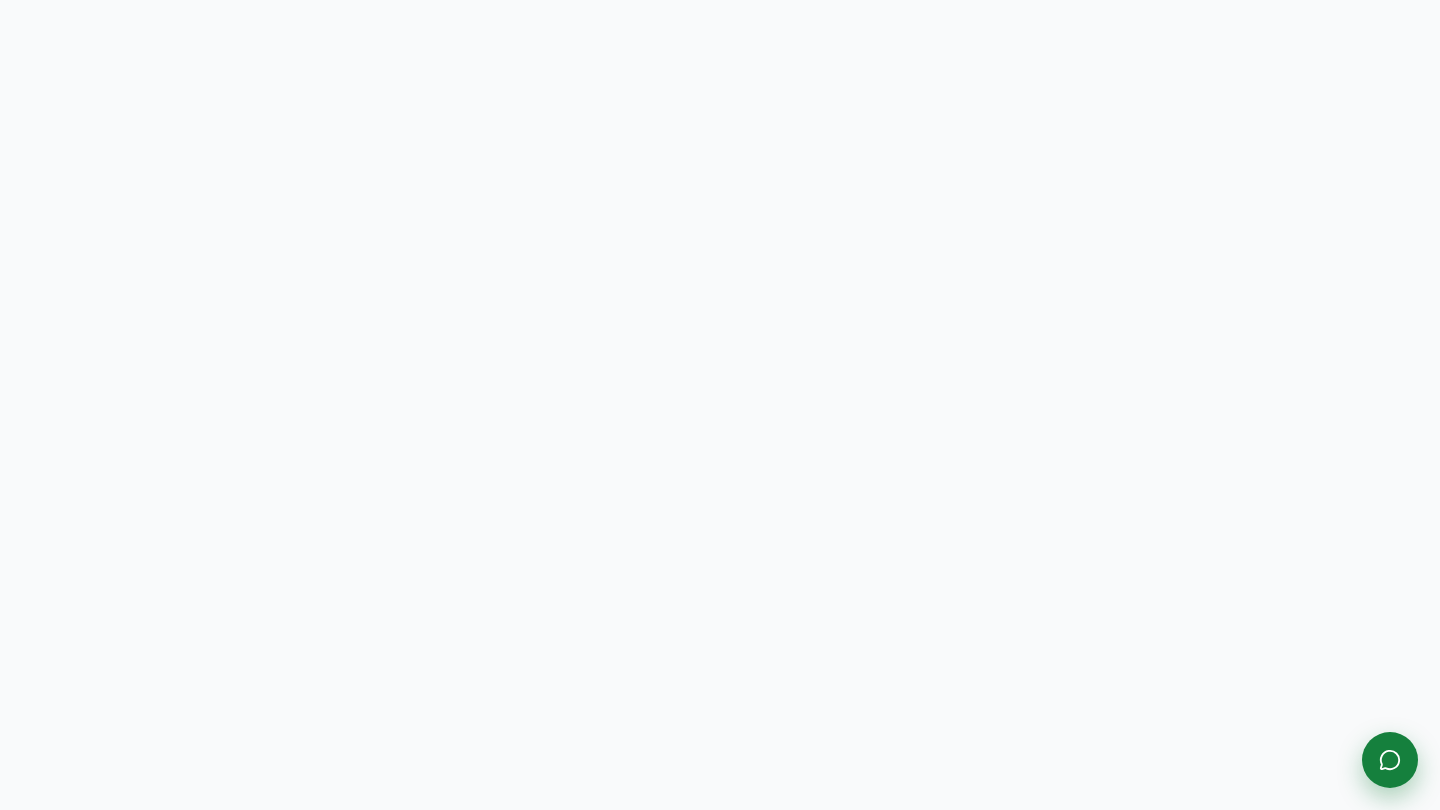
Driver chatbot › opens from the floating launcher and shows the Chatbot heading
This screenshot has width=1440, height=810.
What coordinates should you click on to do the following:
click the button named "Open Chatbot"
I would click on:
 (1390, 760)
Its box is top-left (1362, 732), bottom-right (1418, 788).
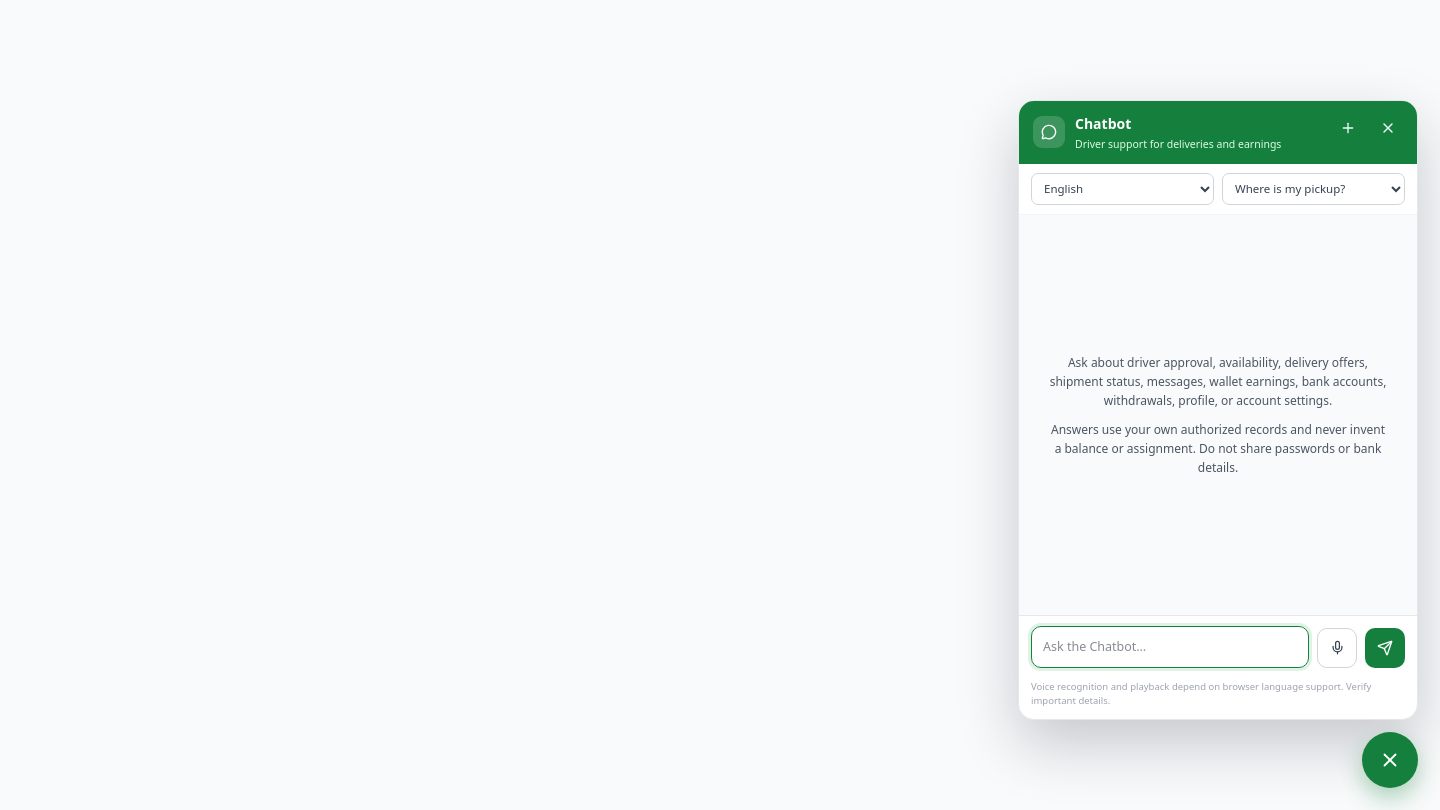
Check: the heading "Chatbot" is shown, box top-left (1075, 114), bottom-right (1131, 133)
Check: the text "Ask about driver approval, availability, delivery offers" is shown, box top-left (1050, 354), bottom-right (1386, 409)
